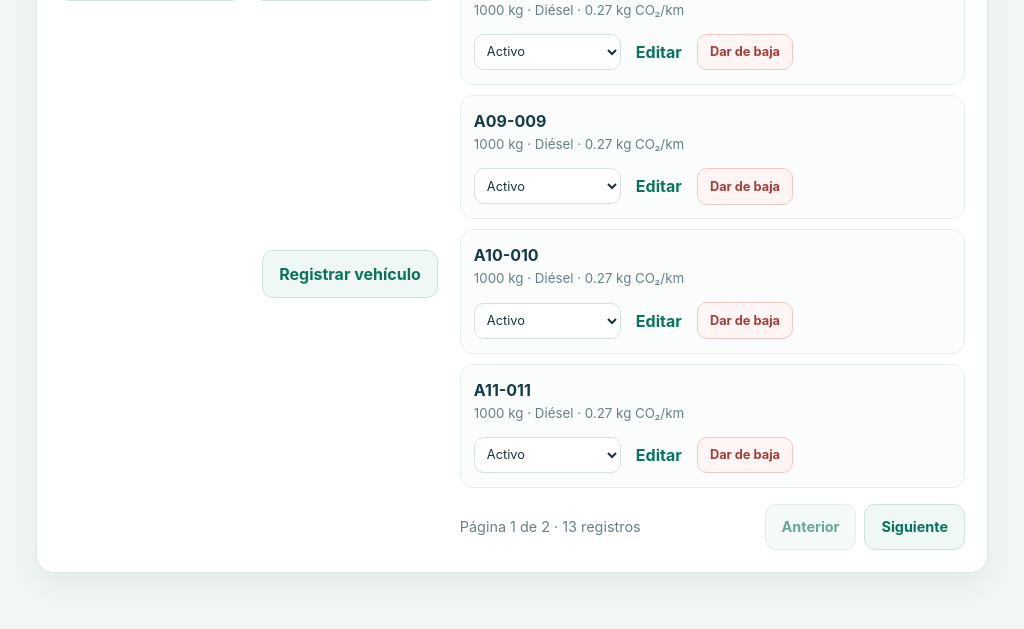
Gestión de flota › pagina la lista de vehículos sin cambiar el conteo total
(page scrolled)
Check: the text "Página 1 de 2 · 13 registros" is shown, box [460,516,641,538]
Click the button "Siguiente" at (915, 527), box [864,504,965,550]
(page scrolled)
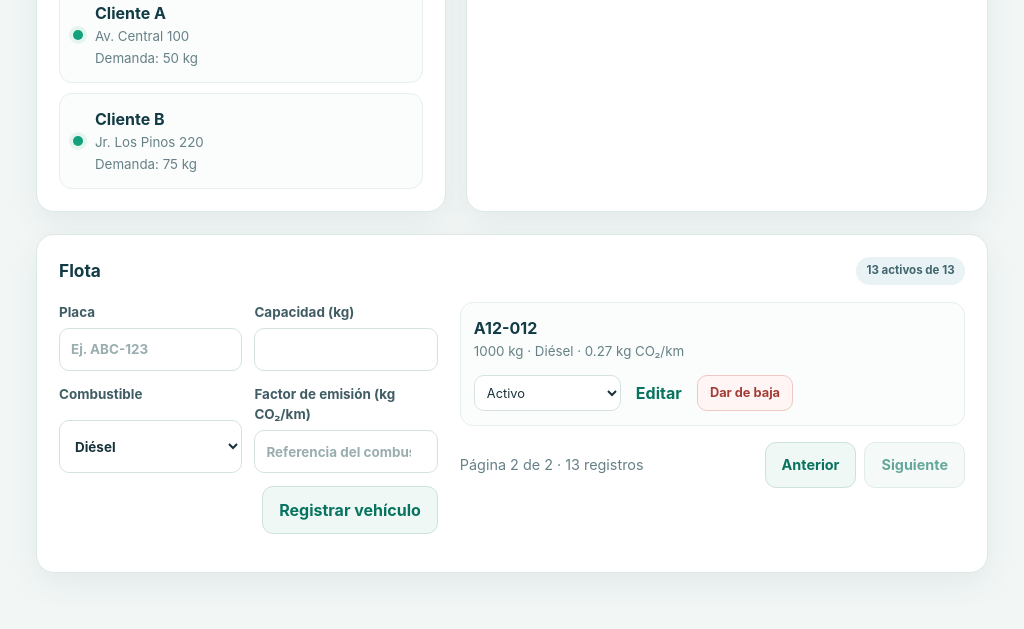
Check: the text "A12-012" is shown, box [474,318,537,338]
Check: the text "Página 2 de 2 · 13 registros" is shown, box [460,454,644,476]
